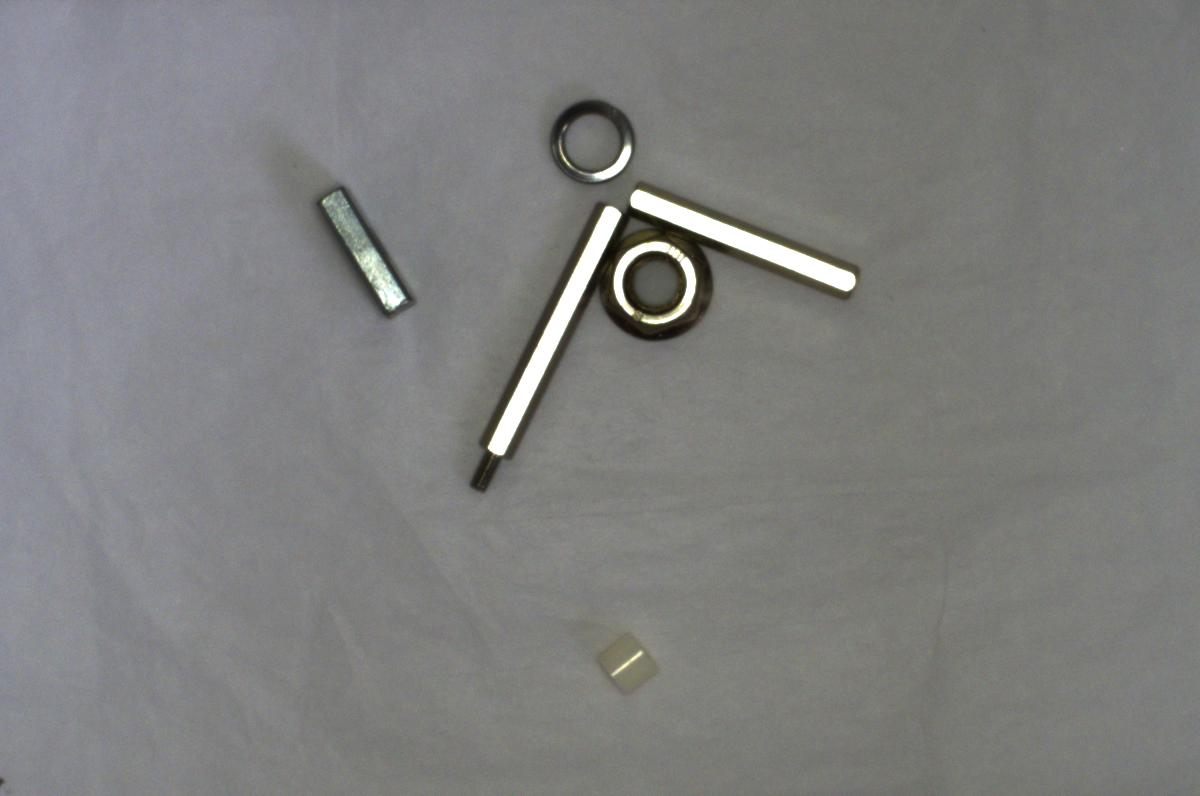Double hexagonal column: (618, 185, 867, 301)
Flange nut: (590, 223, 717, 345)
Hexagonal steel column: (459, 196, 625, 489)
Plastic cushion pillar: (597, 627, 661, 699)
Rectangular nut: (313, 175, 420, 322)
Spring washer: (546, 95, 644, 183)
